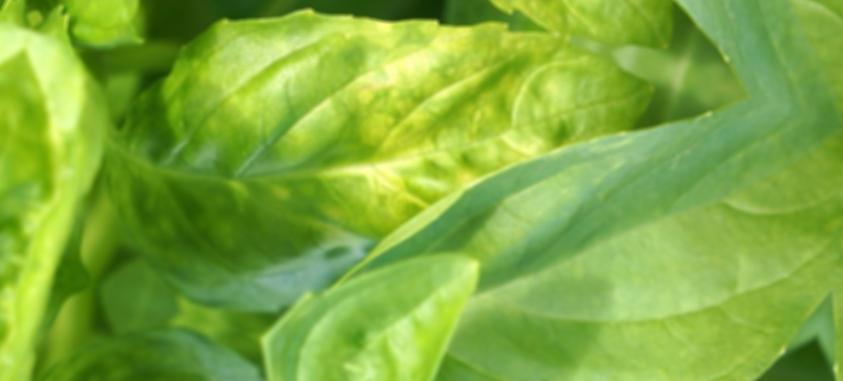Tomato leaf: (71, 0, 664, 381), (356, 7, 843, 381)
